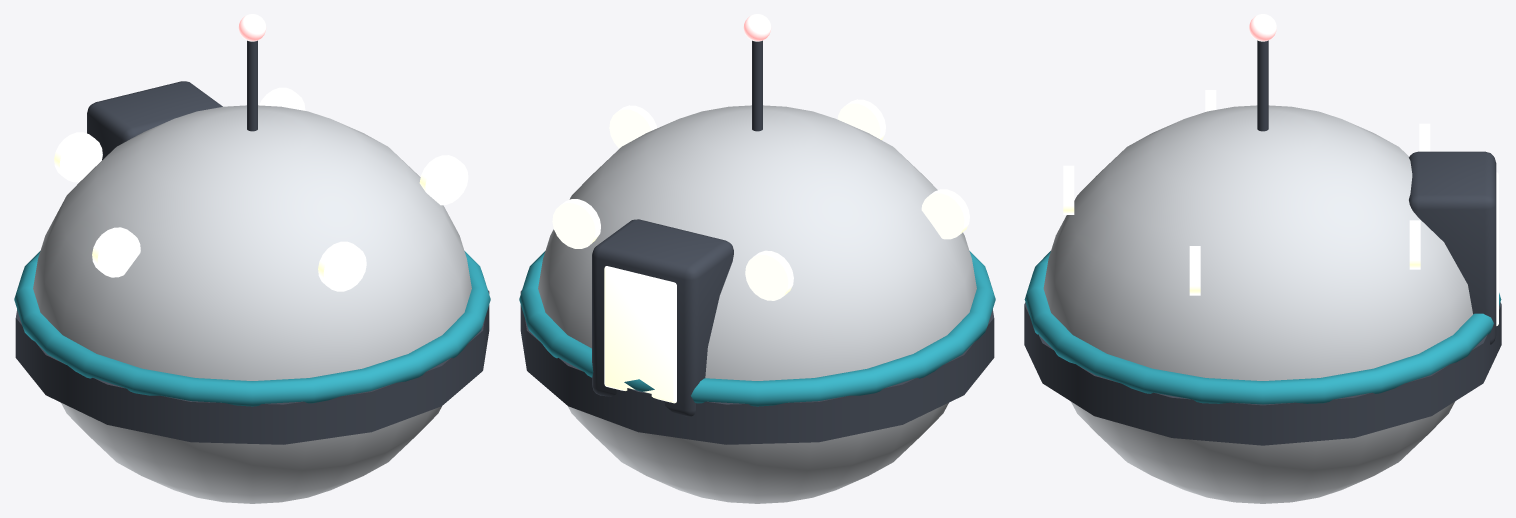
The model's file is town_hab.glb.
The picture shows the model from 3 angles, left to right: view 1: azimuth 30°, elevation 25°; view 2: azimuth 150°, elevation 25°; view 3: azimuth 270°, elevation 25°; orthographic projection.
Parts seen in each view (by area): view 1: Dome, Base, Band, DoorFrame, Port3, Port2, Port4, Port1, Mast, Port0, Beacon; view 2: Dome, Base, DoorFrame, Band, Door, Port1, Port0, Port2, Port4, Port3, Mast, Beacon; view 3: Dome, Base, Band, DoorFrame, Mast, Beacon, Port0, Port4, Port3.
Boxes of the visible parts, left/top/right/bottom form: Dome: left=33, top=105, right=471, bottom=503; Base: left=15, top=290, right=489, bottom=444; Band: left=14, top=251, right=490, bottom=406; DoorFrame: left=87, top=81, right=222, bottom=159; Port3: left=318, top=241, right=366, bottom=291; Port2: left=92, top=227, right=140, bottom=277; Port4: left=419, top=155, right=468, bottom=205; Port1: left=54, top=132, right=102, bottom=182; Mast: left=247, top=40, right=257, bottom=131; Port0: left=259, top=87, right=305, bottom=110; Beacon: left=238, top=14, right=266, bottom=41; Dome: left=538, top=105, right=976, bottom=503; Base: left=520, top=290, right=994, bottom=444; DoorFrame: left=592, top=219, right=733, bottom=416; Band: left=519, top=251, right=995, bottom=406; Door: left=604, top=266, right=676, bottom=403; Port1: left=745, top=250, right=793, bottom=300; Port0: left=552, top=199, right=600, bottom=248; Port2: left=921, top=189, right=969, bottom=239; Port4: left=609, top=105, right=656, bottom=148; Port3: left=837, top=99, right=885, bottom=139; Mast: left=752, top=40, right=762, bottom=131; Beacon: left=743, top=14, right=771, bottom=41; Dome: left=1043, top=105, right=1472, bottom=503; Base: left=1024, top=302, right=1501, bottom=445; Band: left=1024, top=251, right=1501, bottom=404; DoorFrame: left=1409, top=151, right=1496, bottom=344; Mast: left=1257, top=40, right=1268, bottom=131; Beacon: left=1249, top=14, right=1276, bottom=41; Port0: left=1409, top=220, right=1420, bottom=269; Port4: left=1189, top=246, right=1200, bottom=295; Port3: left=1063, top=165, right=1074, bottom=214.
Size of the model in its own units: 8.6 by 9.25 by 8.6.
